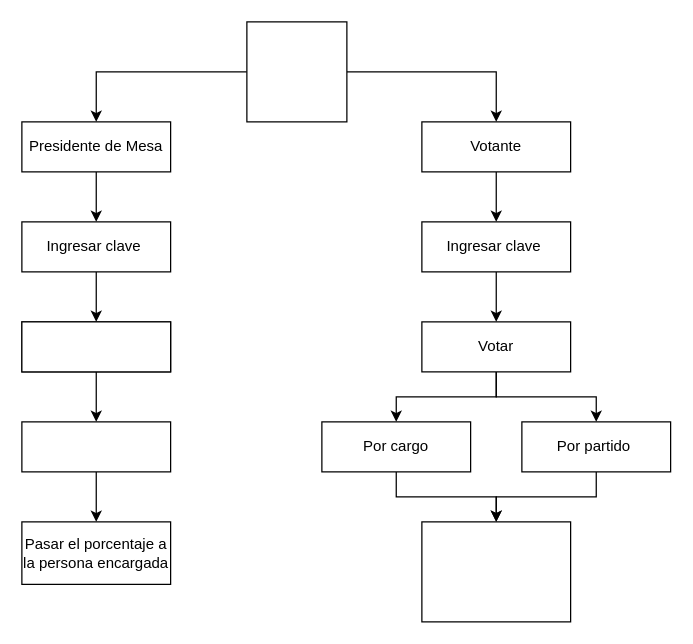
Image size: 693x644. Some labels were removed from this diagram. The shapes that lost their labels are listed below. From the top down, each one's box as (x1, y1, x2, y2) in pixels, then its label:
(246, 21, 347, 122): Registrarse
(21, 321, 171, 372): Buscar partido
(21, 421, 171, 472): Fijarse cantidad de votaciones
(421, 521, 571, 622): Recibir papel y entregar al Oficial de Mesa
